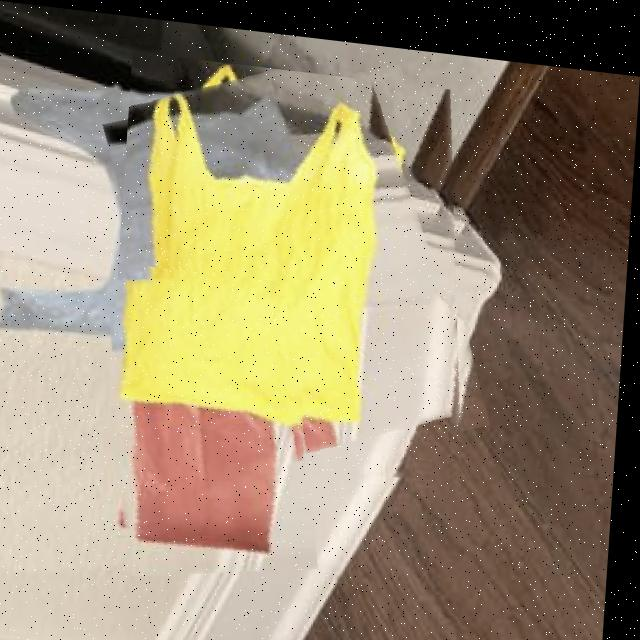litter: (112, 48, 488, 485), (106, 259, 329, 580)
